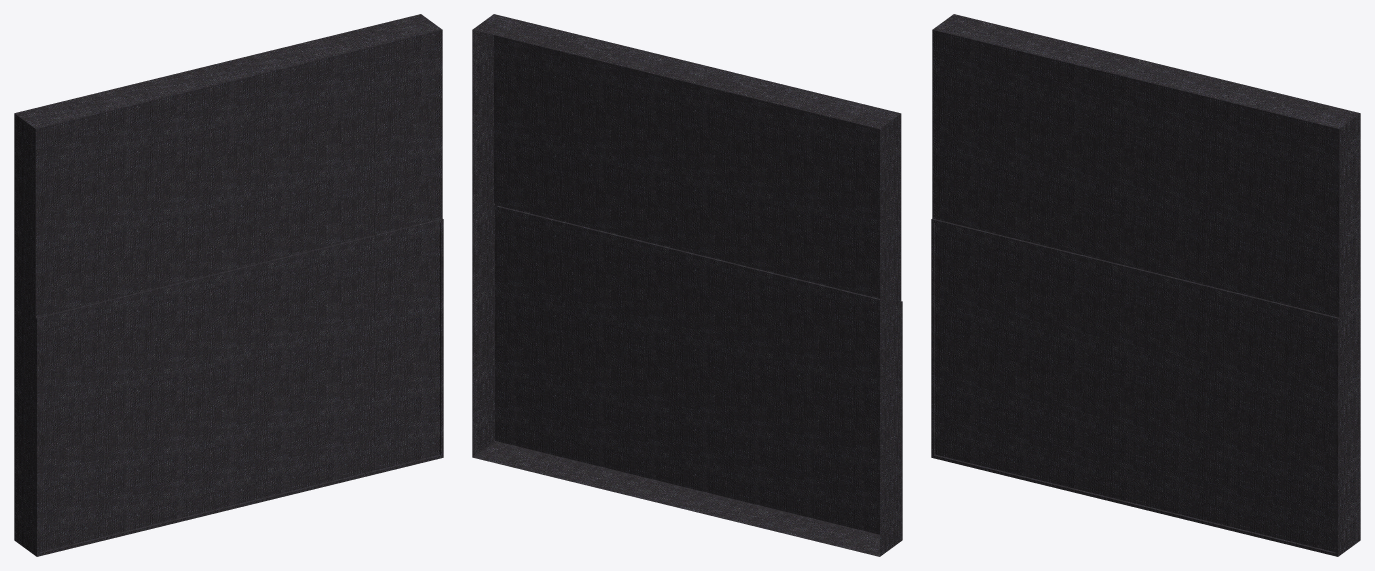
File: chuangtou.fbx
3 renders of one model, left to right at view 1: azimuth 30°, elevation 25°; view 2: azimuth 150°, elevation 25°; view 3: azimuth 330°, elevation 25°, orthographic.
Visible parts, largest first — view 1: chuangtou; view 2: chuangtou; view 3: chuangtou.
Boxes of the visible parts, left/top/right/bottom form: chuangtou: left=14, top=14, right=443, bottom=556; chuangtou: left=472, top=14, right=902, bottom=556; chuangtou: left=931, top=14, right=1360, bottom=556.
Size of the model in its own units: 299 by 300 by 28.96.
